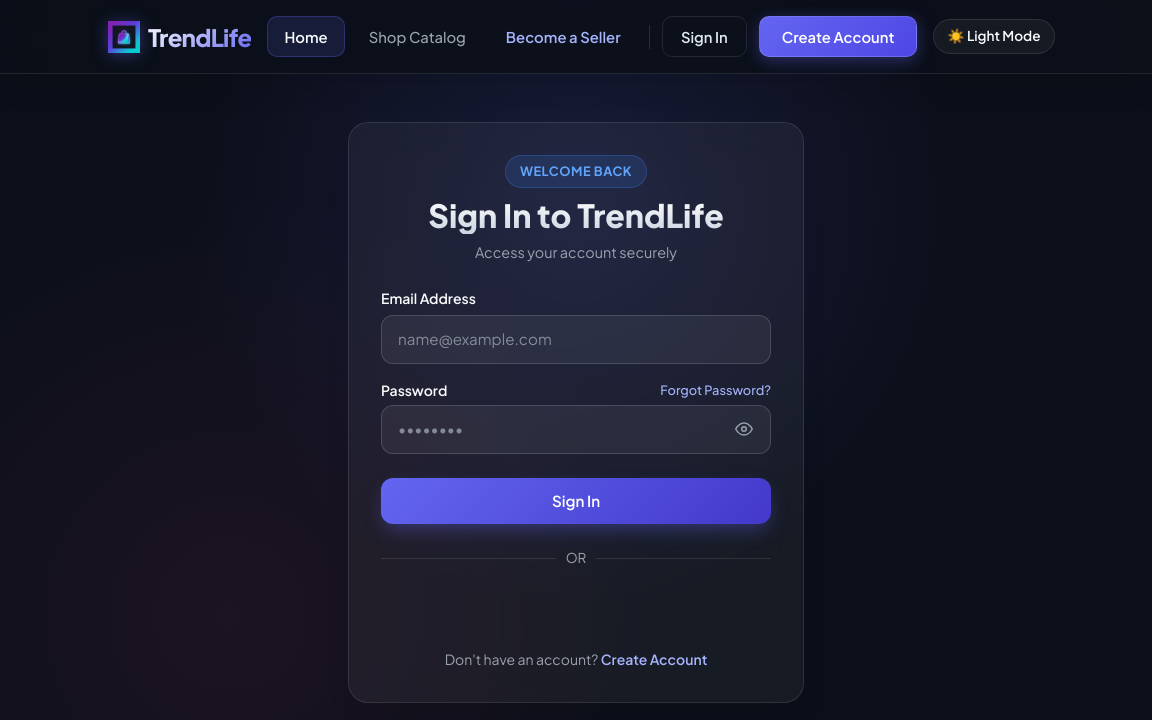
Test: Authentication Flow › Login Component › shows validation errors for empty fields
The width and height of the screenshot is (1152, 720).
Click the button "Sign In" at (576, 501), box [381,478,771,524]
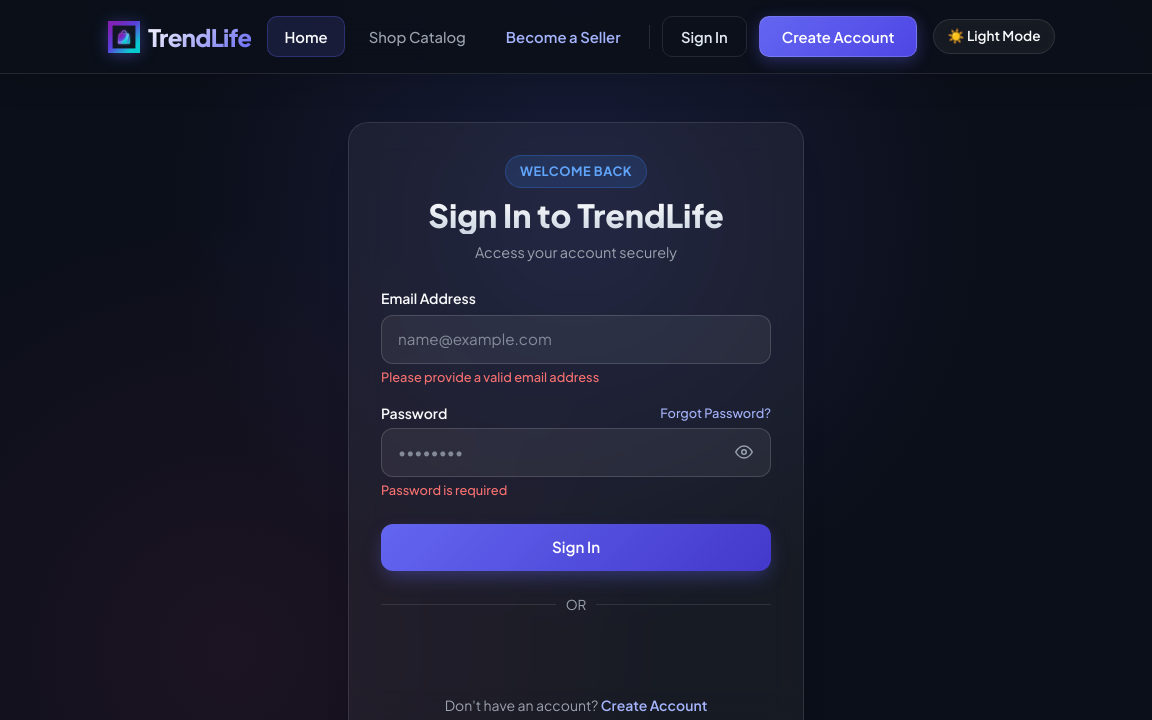
Result: the text "Please provide a valid email address" is shown at [381,369,599,385]
Result: the text "Password is required" is shown at [381,482,507,498]
